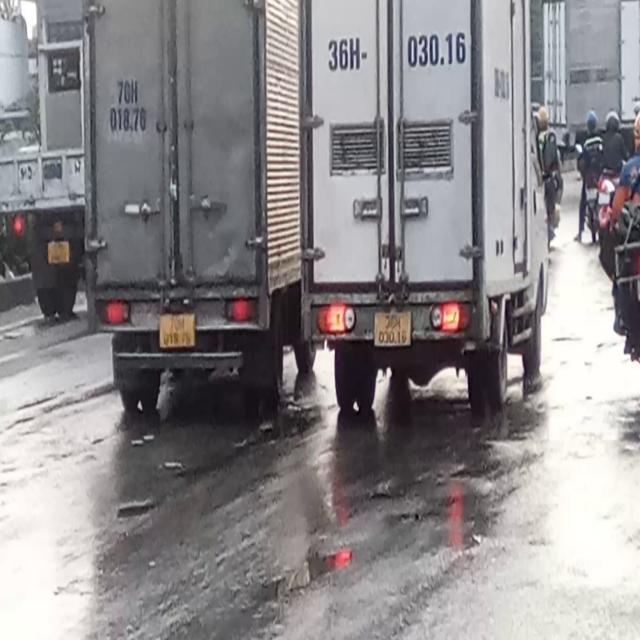bien_vang: (158, 307, 195, 349), (374, 307, 411, 347), (48, 239, 70, 262)
